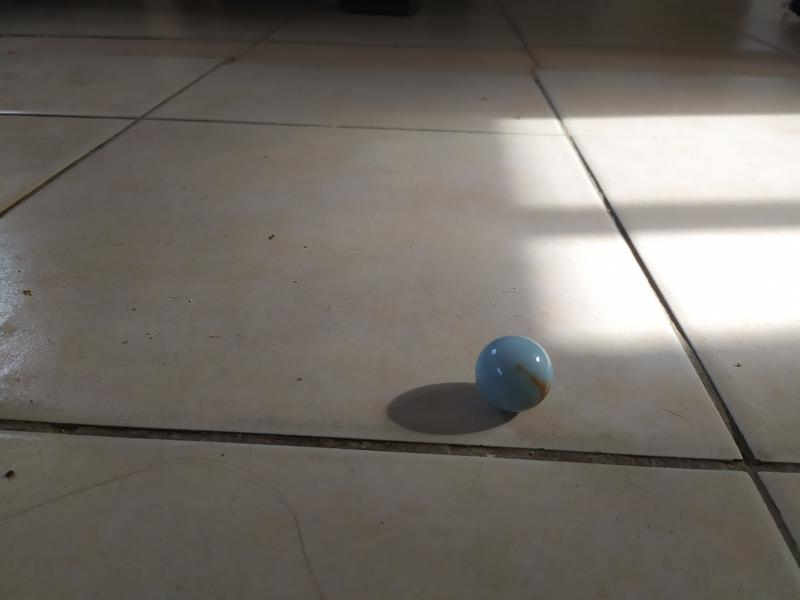Warning: (470, 331, 558, 416)
